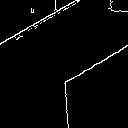cube: (43, 30, 128, 127)
